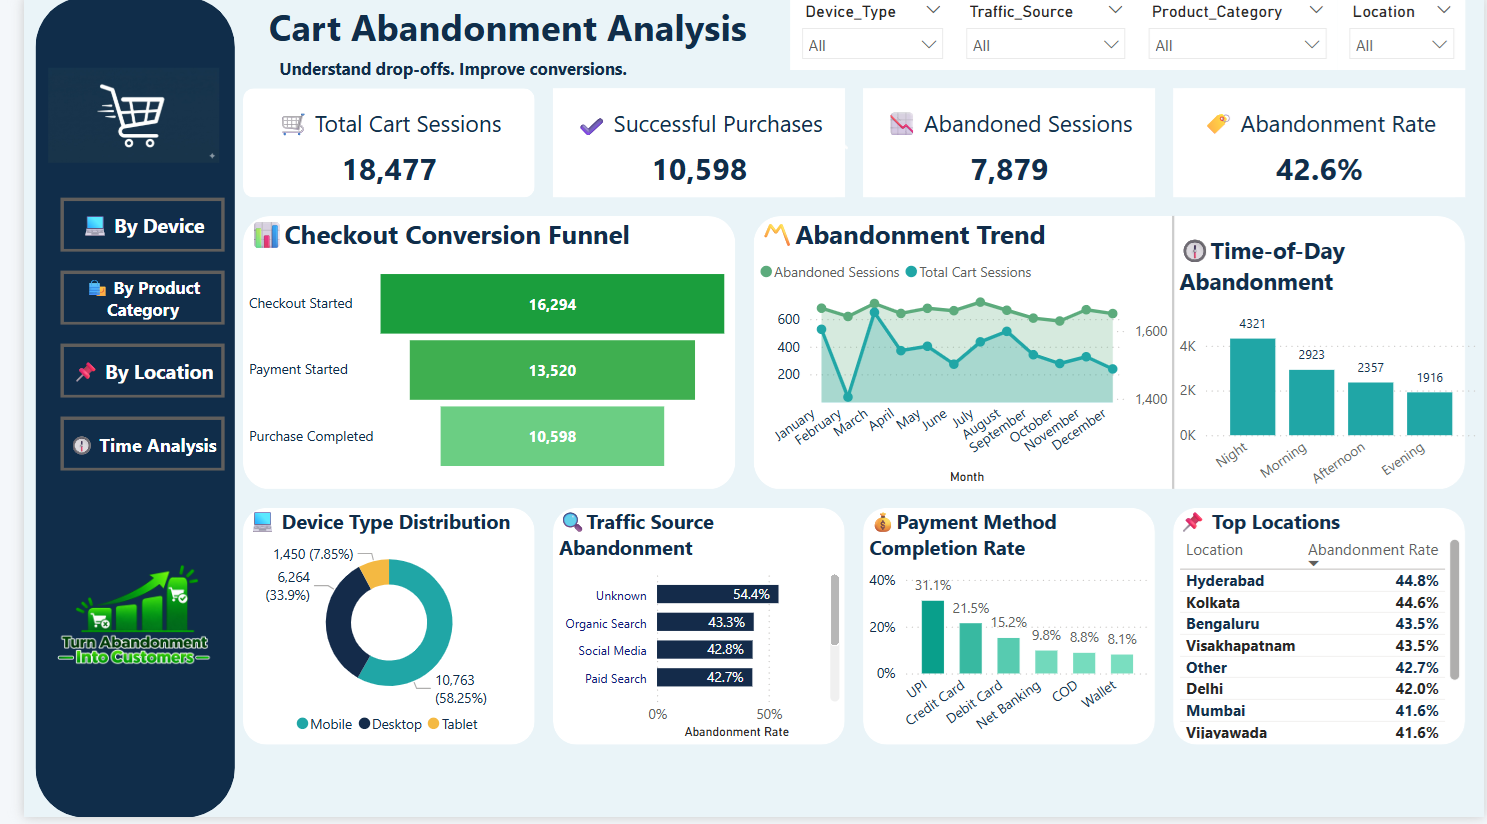

What the dashboard file says about the page in this screenshot:
{"tool":"powerbi","page":{"name":"Cart Abandonment Dashboard","canvas":[1280,720],"ordinal":0},"visuals":[{"type":"shape","box":[10,0,175,720],"z":0},{"type":"slicer","fields":{"Values":["customer sessions.Traffic_Source"]},"box":[816,0,160,64],"z":0,"group":"g2"},{"type":"textbox","box":[192,0,464,64],"z":1000},{"type":"slicer","fields":{"Values":["cart product activity clean.Product_Category"]},"box":[976,0,176,64],"z":1000,"group":"g2"},{"type":"slicer","fields":{"Values":["customer sessions.Location"]},"box":[1152,0,112,64],"z":2000,"group":"g2"},{"type":"group","id":"g1","title":"Group 1","box":[656,106.7,176,53.3],"z":2000},{"type":"textbox","box":[688,120,144,40],"z":2000,"group":"g1"},{"type":"slicer","fields":{"Values":["customer sessions.Device_Type"]},"box":[672,0,144,64],"z":3000,"group":"g2"},{"type":"textbox","box":[192,48,368,32],"z":3000},{"type":"image","box":[656,106.7,96,40],"z":3000,"group":"g1"},{"type":"shape","box":[192,80,256,96],"z":4000},{"type":"shape","box":[464,80,256,96],"z":5000},{"type":"shape","box":[736,80,256,96],"z":6000},{"type":"shape","box":[1008,80,256,96],"z":7000},{"type":"shape","box":[192,192,432,240],"z":8000},{"type":"shape","box":[640,192,624,240],"z":9000},{"type":"shape","box":[192,448,256,208],"z":10000},{"type":"shape","box":[464,448,256,208],"z":11000},{"type":"shape","box":[736,448,256,208],"z":12000},{"type":"shape","box":[1008,448,256,208],"z":13000},{"type":"cardVisual","fields":{"Data":["cart product activity clean.Total Cart Sessions"]},"box":[192,80,256,96],"z":14000},{"type":"cardVisual","fields":{"Data":["cart product activity clean.Successful Purchases"]},"box":[464,80,256,96],"z":15000},{"type":"cardVisual","fields":{"Data":["cart product activity clean.Abandoned Sessions"]},"box":[736,80,256,96],"z":16000},{"type":"cardVisual","fields":{"Data":["cart product activity clean.Abandonment Rate"]},"box":[1008,80,256,96],"z":17000},{"type":"funnel","title":"📊Checkout Conversion Funnel","fields":{"Category":["Checkout Funnel.Stage"],"Y":["Checkout Funnel.Funnel Sessions"]},"box":[192,192,432,240],"z":18000},{"type":"lineChart","title":"〽️Abandonment Trend ","fields":{"Y":["cart product activity clean.Abandoned Sessions"],"Category":["customer sessions.Date.Variation.Date Hierarchy.Month"],"Y2":["cart product activity clean.Total Cart Sessions"]},"box":[640,192,368,240],"z":19000},{"type":"donutChart","title":"💻 Device Type Distribution","fields":{"Category":["customer sessions.Device_Type"],"Y":["cart product activity clean.Total Cart Sessions"]},"box":[192,448,256,208],"z":20000},{"type":"clusteredColumnChart","title":"💰Payment Method Completion Rate","fields":{"Y":["Checkout Funnel.Payment Completion Rate"],"Category":["checkout activity clean.Payment_Method"]},"box":[736,448,256,208],"z":21000},{"type":"tableEx","title":"📌 Top Locations","fields":{"Values":["customer sessions.Location","cart product activity clean.Abandonment Rate"]},"box":[1008,448,256,208],"z":22000},{"type":"clusteredBarChart","title":"  🔍Traffic Source Abandonment ","fields":{"Category":["customer sessions.Traffic_Source"],"Y":["cart product activity clean.Abandonment Rate"]},"box":[464,448,256,208],"z":23000},{"type":"clusteredColumnChart","title":" 🕧Time-of-Day Abandonment","fields":{"Category":["customer sessions.Time Period"],"Y":["cart product activity clean.Time Abandoned Sessions"]},"box":[1008,208,272,240],"z":24000},{"type":"shape","box":[912,192,192,240],"z":25000},{"type":"group","id":"g2","title":"Group 7","box":[672,0,592,64],"z":26000},{"type":"image","box":[16,48,160,112],"z":27000},{"type":"actionButton","box":[32,176,144,48],"z":28000},{"type":"actionButton","box":[32,240,144,48],"z":29000},{"type":"actionButton","box":[32,304,144,48],"z":30000},{"type":"actionButton","box":[32,368,144,48],"z":31000},{"type":"image","box":[16,464,160,160],"z":32000}]}

Visuals, with their boxes in screenshot pixels (x1, y1, x2, y2), scaled from the page's 1280x720 canvas onto the 1487x824 screenshot:
shape: crop(12, 0, 215, 823)
slicer - customer sessions.Traffic_Source: crop(948, 0, 1134, 73)
textbox: crop(223, 0, 762, 73)
slicer - cart product activity clean.Product_Category: crop(1134, 0, 1338, 73)
slicer - customer sessions.Location: crop(1338, 0, 1468, 73)
"Group 1" group: crop(762, 122, 967, 183)
textbox: crop(799, 137, 967, 183)
slicer - customer sessions.Device_Type: crop(781, 0, 948, 73)
textbox: crop(223, 55, 651, 92)
image: crop(762, 122, 874, 168)
shape: crop(223, 92, 520, 201)
shape: crop(539, 92, 836, 201)
shape: crop(855, 92, 1152, 201)
shape: crop(1171, 92, 1468, 201)
shape: crop(223, 220, 725, 494)
shape: crop(744, 220, 1468, 494)
shape: crop(223, 513, 520, 751)
shape: crop(539, 513, 836, 751)
shape: crop(855, 513, 1152, 751)
shape: crop(1171, 513, 1468, 751)
cardVisual - cart product activity clean.Total Cart Sessions: crop(223, 92, 520, 201)
cardVisual - cart product activity clean.Successful Purchases: crop(539, 92, 836, 201)
cardVisual - cart product activity clean.Abandoned Sessions: crop(855, 92, 1152, 201)
cardVisual - cart product activity clean.Abandonment Rate: crop(1171, 92, 1468, 201)
"📊Checkout Conversion Funnel" funnel: crop(223, 220, 725, 494)
"〽️Abandonment Trend " lineChart: crop(744, 220, 1171, 494)
"💻 Device Type Distribution" donutChart: crop(223, 513, 520, 751)
"💰Payment Method Completion Rate" clusteredColumnChart: crop(855, 513, 1152, 751)
"📌 Top Locations" tableEx: crop(1171, 513, 1468, 751)
"  🔍Traffic Source Abandonment " clusteredBarChart: crop(539, 513, 836, 751)
" 🕧Time-of-Day Abandonment" clusteredColumnChart: crop(1171, 238, 1486, 513)
shape: crop(1059, 220, 1283, 494)
"Group 7" group: crop(781, 0, 1468, 73)
image: crop(19, 55, 204, 183)
actionButton: crop(37, 201, 204, 256)
actionButton: crop(37, 275, 204, 330)
actionButton: crop(37, 348, 204, 403)
actionButton: crop(37, 421, 204, 476)
image: crop(19, 531, 204, 714)
